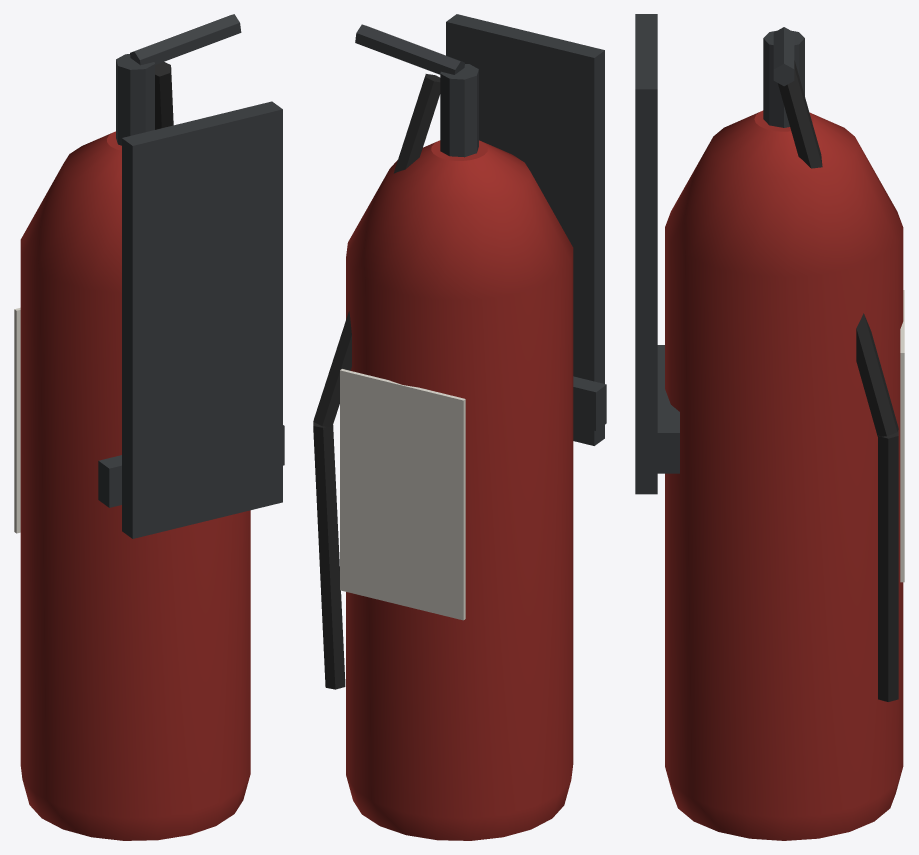
Rendered from prop_fire_extinguisher.glb.
The picture shows the model from 3 angles, left to right: view 1: azimuth 30°, elevation 25°; view 2: azimuth 150°, elevation 25°; view 3: azimuth 270°, elevation 25°; orthographic projection. The views are drawn at different scales.
Parts seen in each view (by area): view 1: Extinguisher; view 2: Extinguisher; view 3: Extinguisher.
Boxes of the visible parts, bbox=[...] form: Extinguisher: bbox=[14, 14, 284, 840]; Extinguisher: bbox=[313, 14, 606, 840]; Extinguisher: bbox=[635, 14, 904, 840].
Size of the model in its own units: 0.161 by 0.5779 by 0.181.
